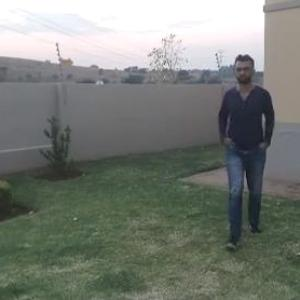follow: (217, 53, 276, 228)
